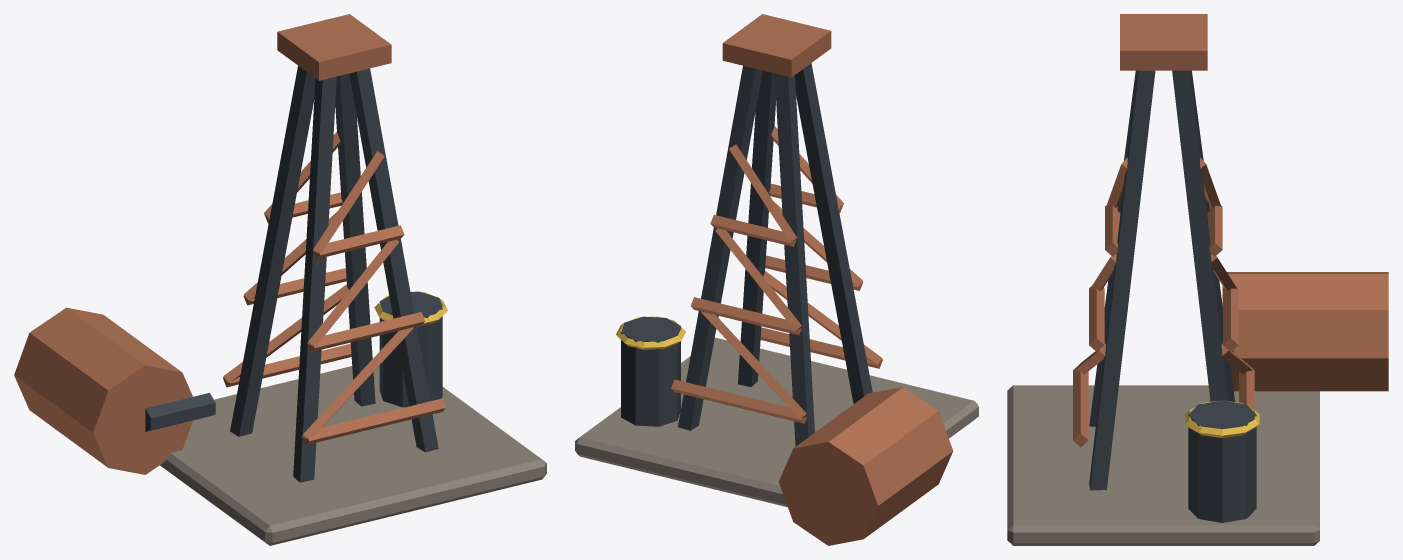
The model's file is imp_oil_well.glb.
The picture shows the model from 3 angles, left to right: view 1: azimuth 30°, elevation 25°; view 2: azimuth 150°, elevation 25°; view 3: azimuth 270°, elevation 25°; orthographic projection. The views are drawn at different scales.
Parts seen in each view (by area): view 1: imp_oil_well; view 2: imp_oil_well; view 3: imp_oil_well.
Boxes of the visible parts, <box> form: imp_oil_well: <box>14,14,546,545</box>; imp_oil_well: <box>575,14,978,545</box>; imp_oil_well: <box>1007,14,1388,545</box>.
Bounding box in the file's own units: 0.44 × 0.503 × 0.39.
